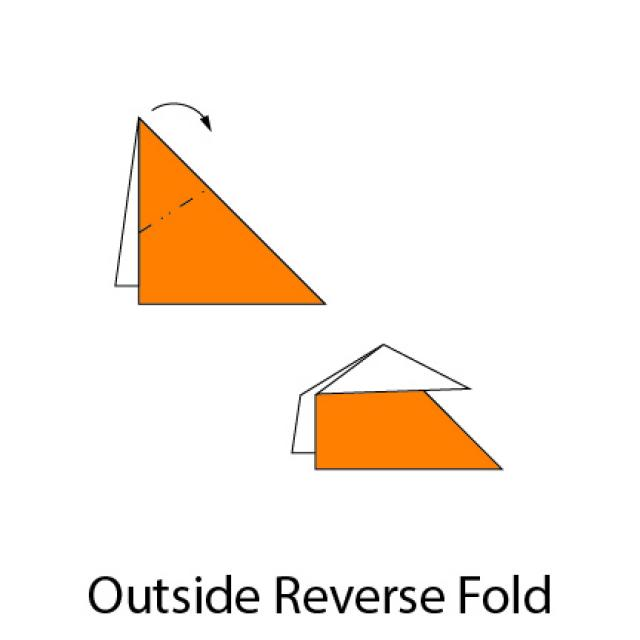arrow: (150, 92, 216, 140)
fold-line: (137, 181, 213, 239)
